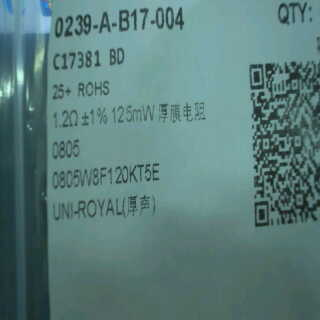1.2R: (50, 108, 82, 162)
